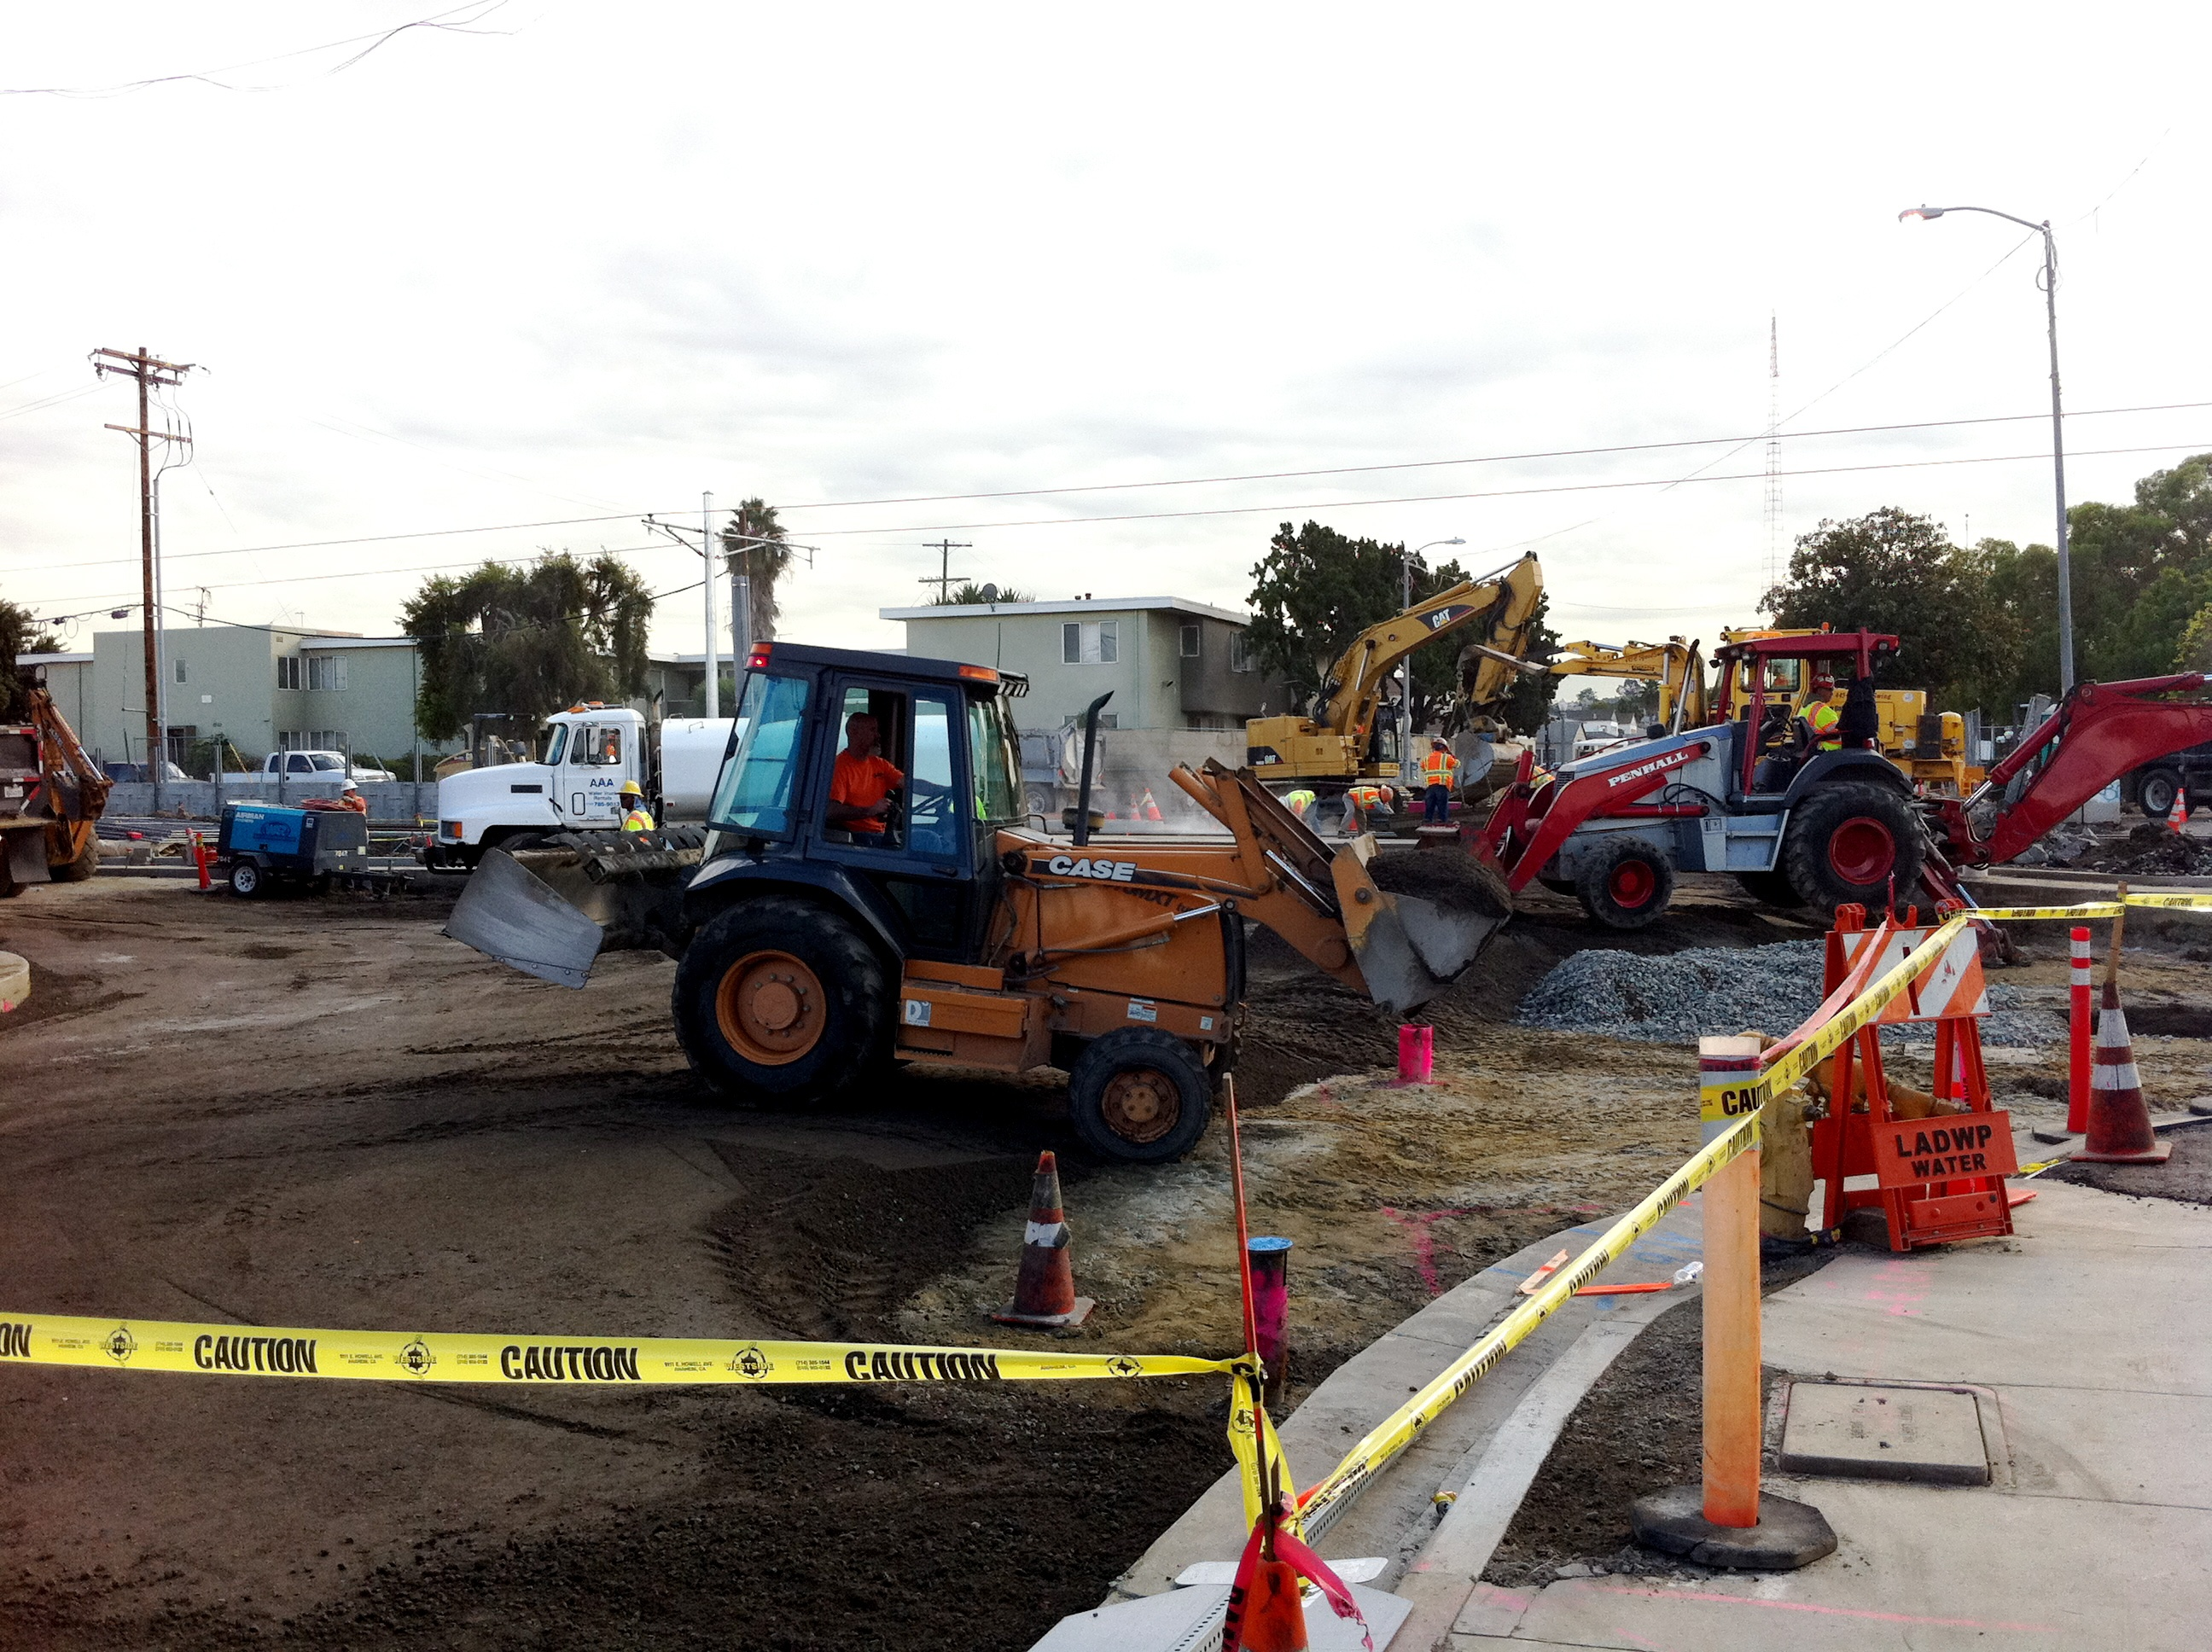none: (843, 711, 881, 753)
red: (1810, 672, 1836, 703), (1431, 736, 1449, 755), (1378, 784, 1393, 803)
white: (340, 779, 357, 795)
yellow: (618, 781, 642, 809)
